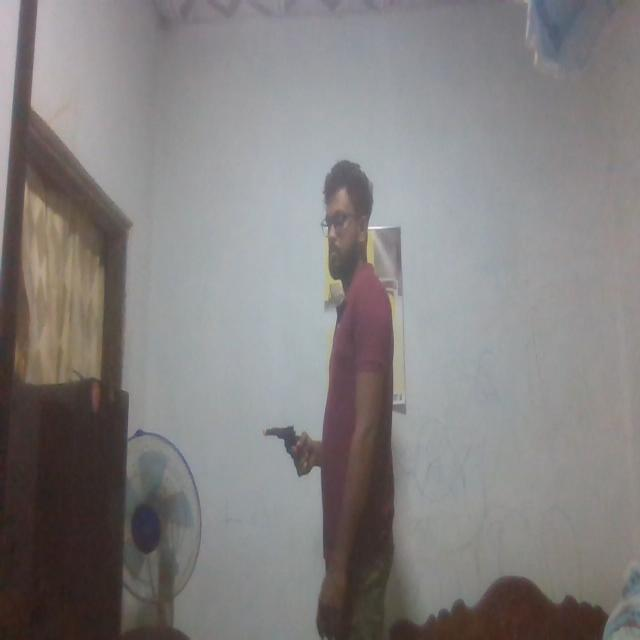Gun_Holder: (264, 423, 314, 488)
Person: (287, 158, 400, 635)
